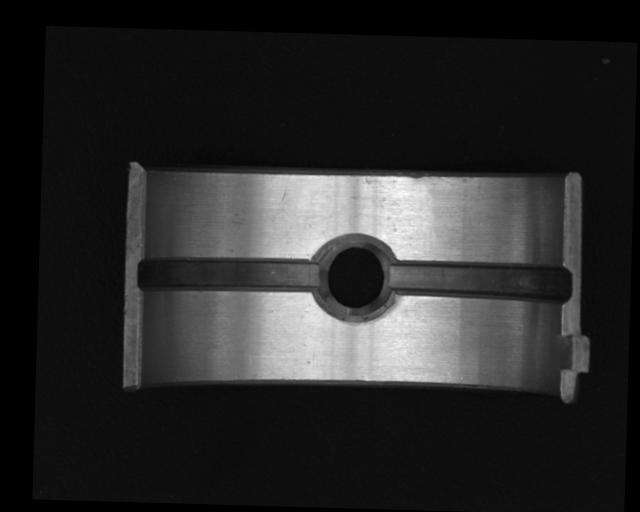gap: (135, 253, 326, 299), (387, 258, 573, 302)
hole: (313, 234, 396, 321)
